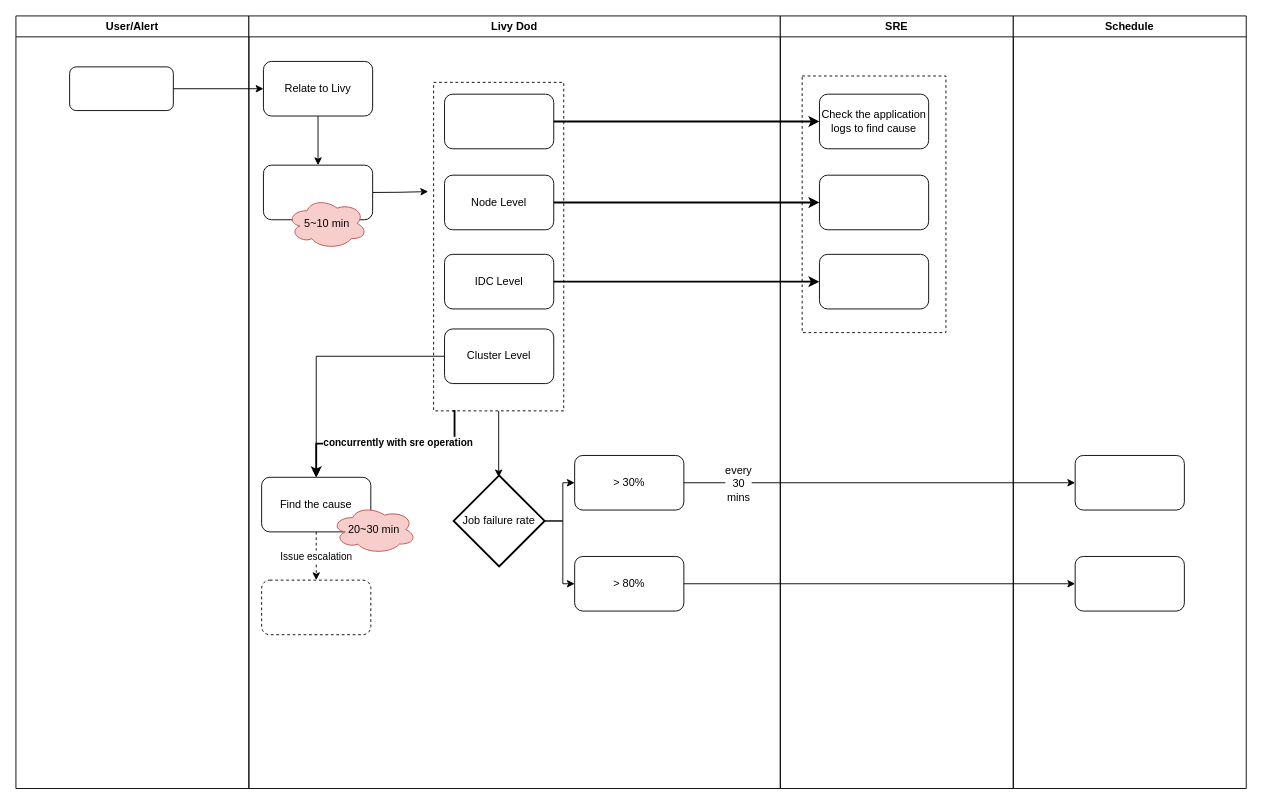
Some shapes in this 1262 by 804 pixel diagram are drawn without their labels. Each missing label, with the centre of its shape:
"Execute ADR" belongs at (x=874, y=281).
"Identify Scope" belongs at (x=318, y=192).
"Issue Raised" belongs at (x=121, y=88).
"Keep the scene and offline the issue node" belongs at (x=874, y=202).
"PIC → Tech Leader → Report Manager" belongs at (x=316, y=607).
"Project Level" belongs at (x=499, y=121).
"Rerun failed jobs" belongs at (x=1129, y=482).
"stop schedule new tasks" belongs at (x=1129, y=583).
